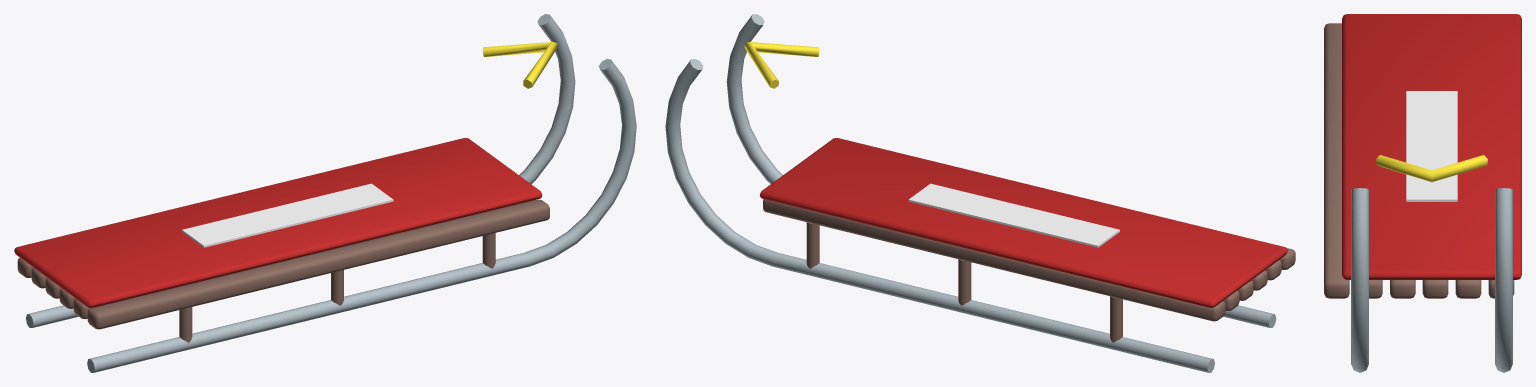
File: sled.fbx
3 renders of one model, left to right at view 1: azimuth 30°, elevation 25°; view 2: azimuth 150°, elevation 25°; view 3: azimuth 270°, elevation 25°, orthographic. The views are drawn at different scales.
Visible parts, largest first — view 1: Grandpa's Sled; view 2: Grandpa's Sled; view 3: Grandpa's Sled.
Part boxes in pixels (x1,y1,x2,y2): Grandpa's Sled: [14, 14, 636, 372]; Grandpa's Sled: [665, 14, 1295, 372]; Grandpa's Sled: [1324, 14, 1521, 372].
Bounding box in the file's own units: 2.92 × 0.9499 × 0.77.
